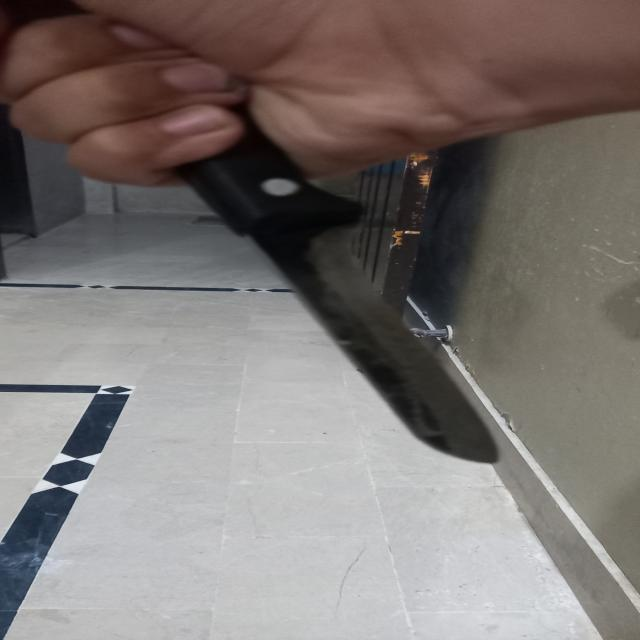weapon: (82, 48, 525, 473)
